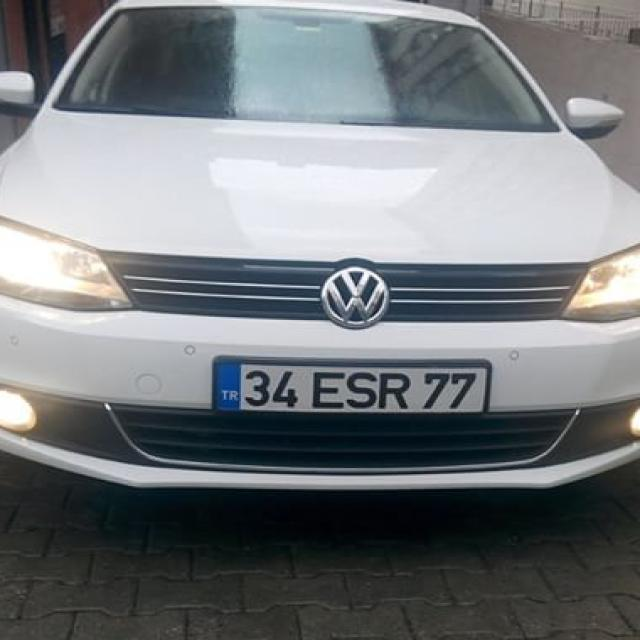license_plate: (212, 362, 488, 414)
